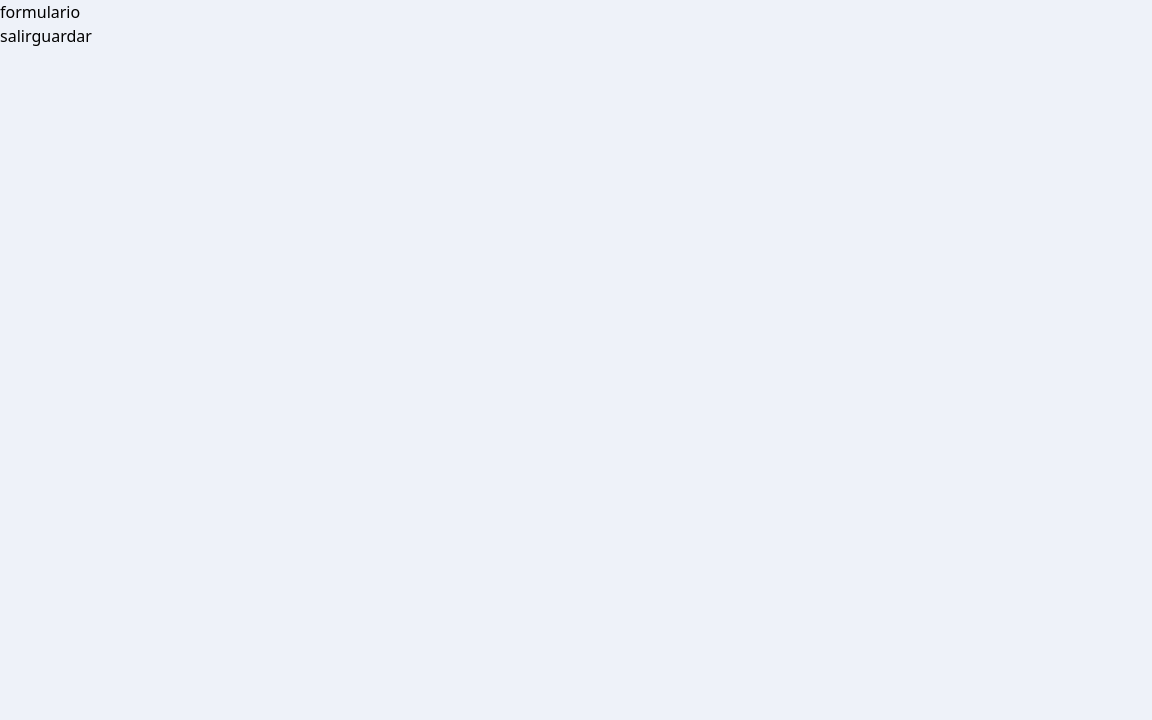
useConfirmarSalida › sucio: pregunta; "Seguir editando" se queda
The image size is (1152, 720).
Later steps or results of the test are not shown.
Click the link "salir" at point(16, 36), box [0,25,32,47]
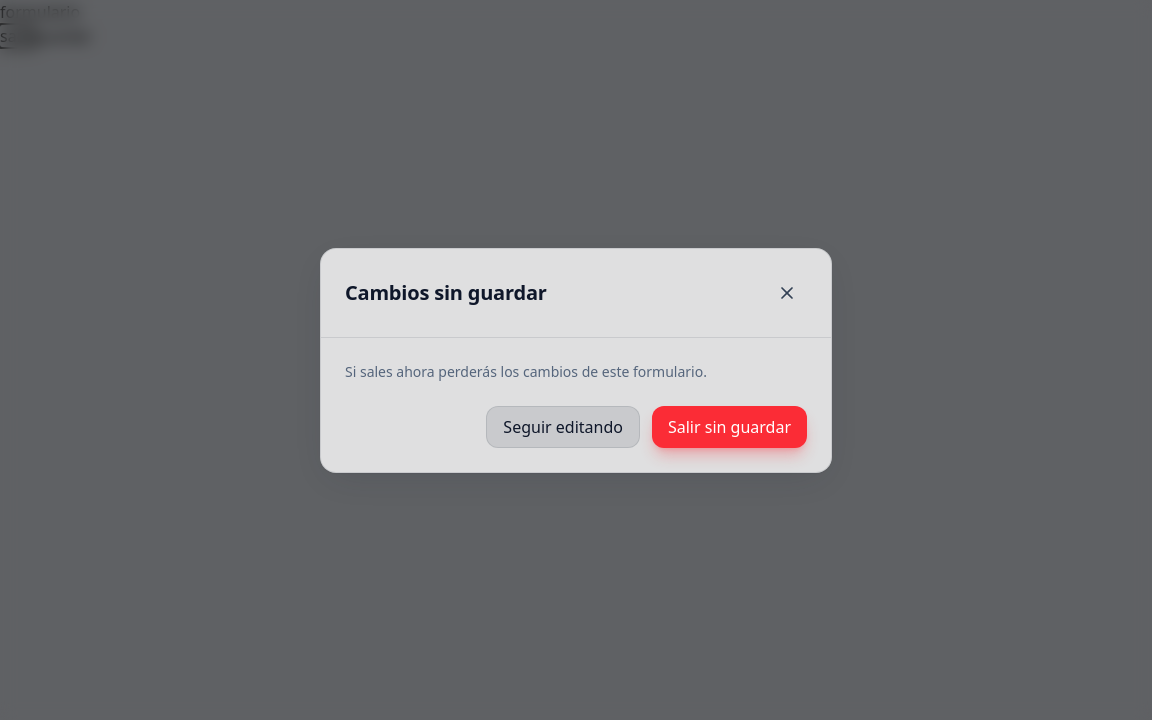
Expected: the heading "Cambios sin guardar" is shown, [345,278,547,306]
